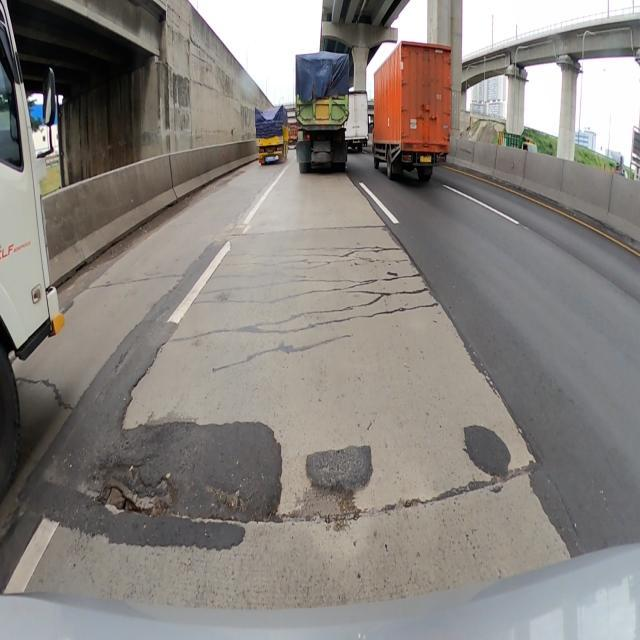Buraco: (92, 459, 182, 521)
